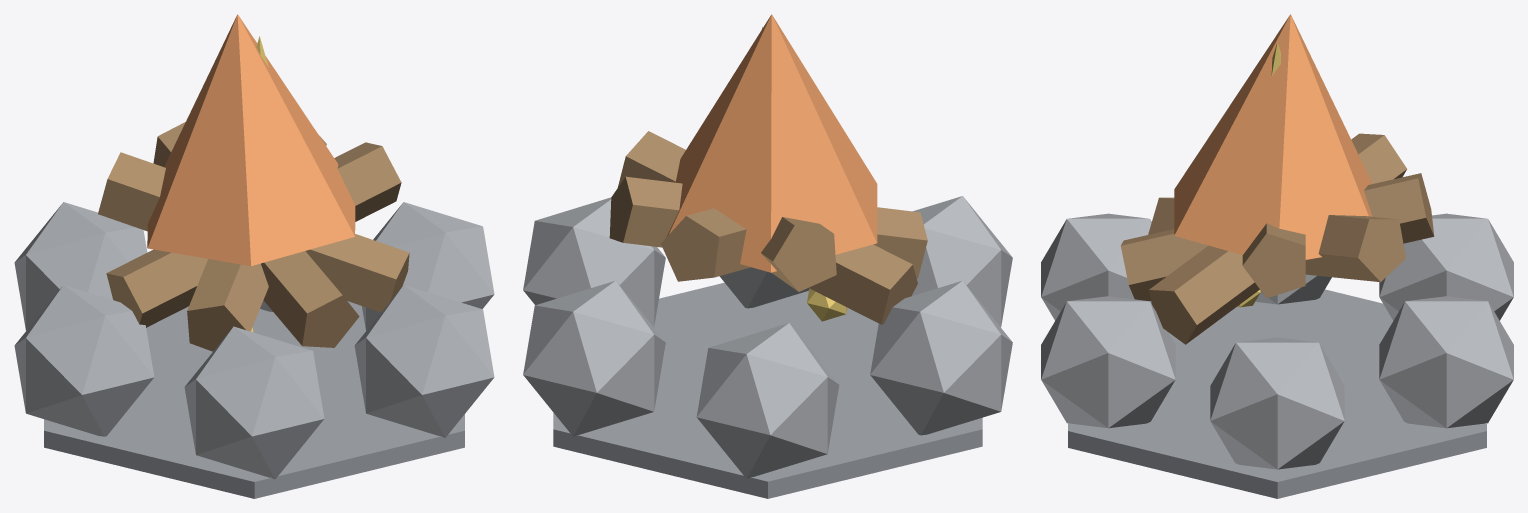
File: animprop_campfire_07.glb
The picture shows the model from 3 angles, left to right: view 1: azimuth 30°, elevation 25°; view 2: azimuth 150°, elevation 25°; view 3: azimuth 270°, elevation 25°; orthographic projection. The views are drawn at different scales.
Visible parts, largest first — view 1: animprop; view 2: animprop; view 3: animprop.
Part boxes in pixels (<box>): animprop: <box>14,14,494,498</box>; animprop: <box>523,14,1012,498</box>; animprop: <box>1041,14,1513,498</box>.
Bounding box in the file's own units: 1.13 × 0.8967 × 1.02.
